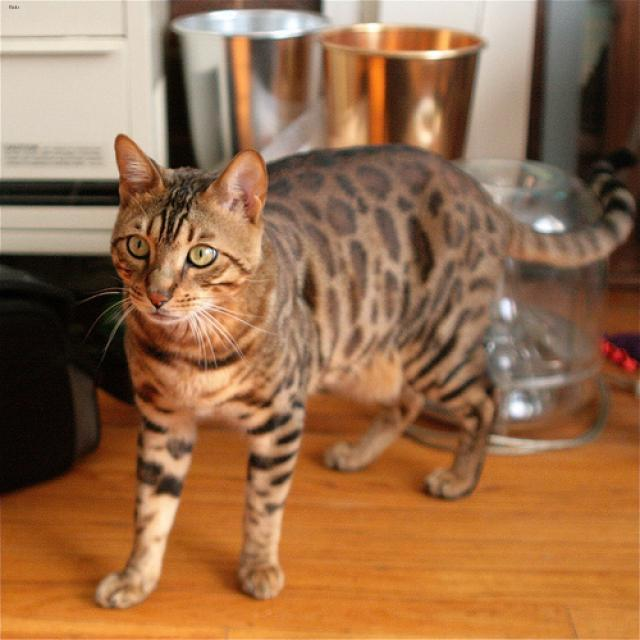Bengal: (103, 130, 280, 339)
